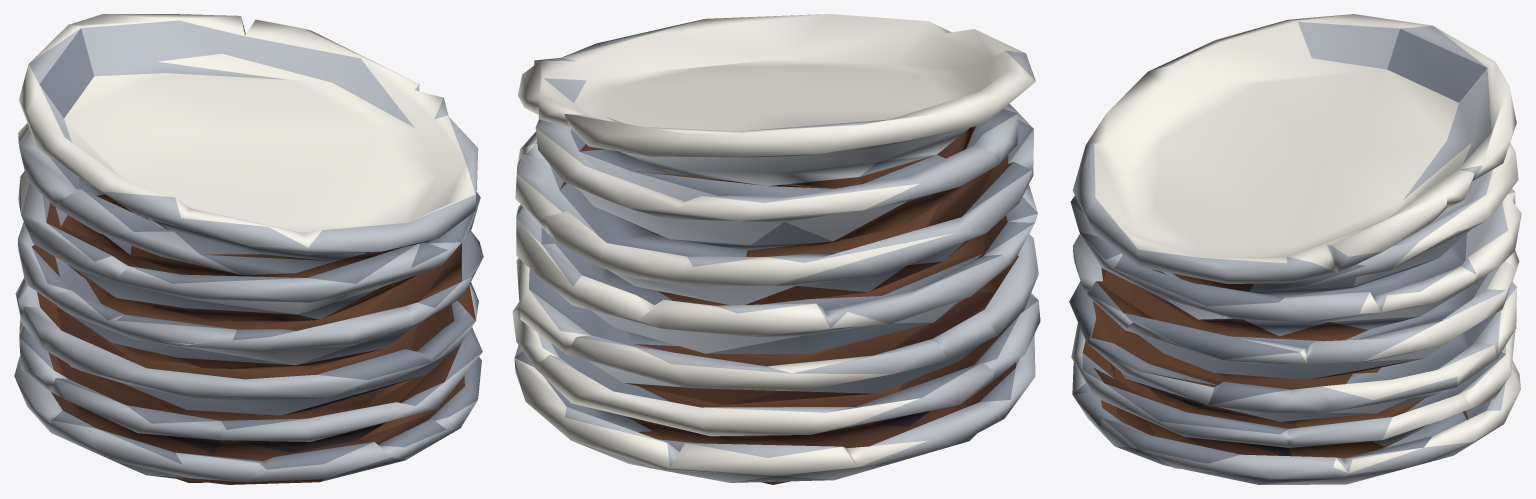
Rendered from SM_plates_stack.fbx.
The picture shows the model from 3 angles, left to right: view 1: azimuth 30°, elevation 25°; view 2: azimuth 150°, elevation 25°; view 3: azimuth 270°, elevation 25°; orthographic projection. The views are drawn at different scales.
Visible parts, largest first — view 1: SM_plates_stack; view 2: SM_plates_stack; view 3: SM_plates_stack.
Boxes of the visible parts, bbox=[...] form: SM_plates_stack: bbox=[14, 14, 483, 484]; SM_plates_stack: bbox=[512, 14, 1040, 484]; SM_plates_stack: bbox=[1069, 14, 1521, 484].
Size of the model in its own units: 17.59 by 14 by 17.63.
1 material, 1 textured.
